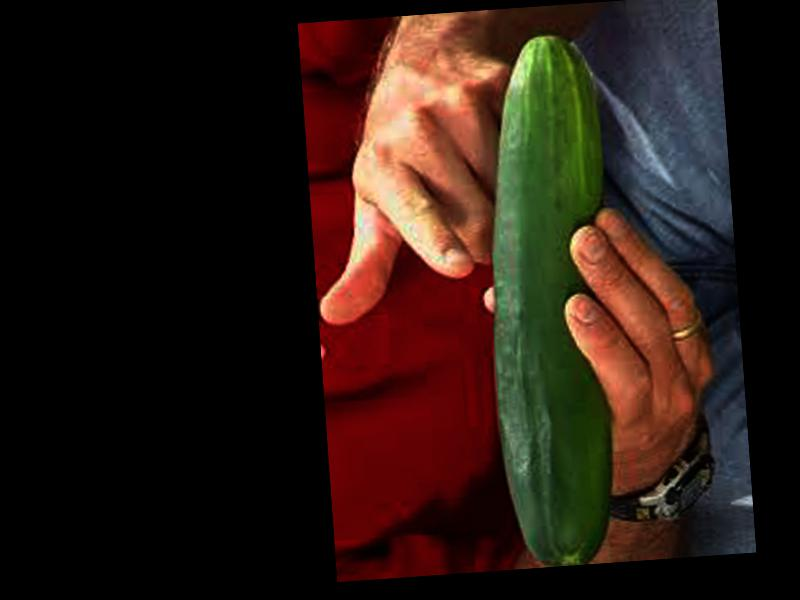Cucumber: (470, 30, 633, 570)
